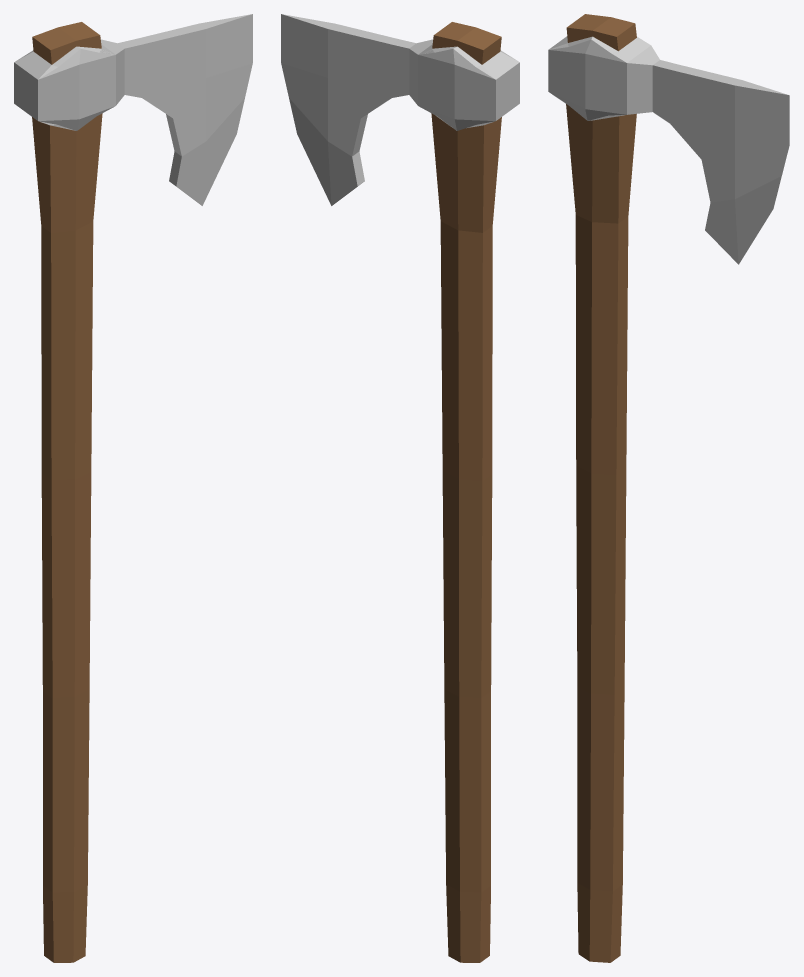
File: Machado_Textura.fbx
3 renders of one model, left to right at view 1: azimuth 30°, elevation 25°; view 2: azimuth 150°, elevation 25°; view 3: azimuth 330°, elevation 25°, orthographic.
Visible parts, largest first — view 1: Cube; view 2: Cube; view 3: Cube.
Part boxes in pixels (x1,y1,x2,y2): Cube: [14, 14, 252, 962]; Cube: [281, 14, 519, 962]; Cube: [548, 14, 789, 962].
Size of the model in its own units: 1.21 by 4.7 by 0.2641.
